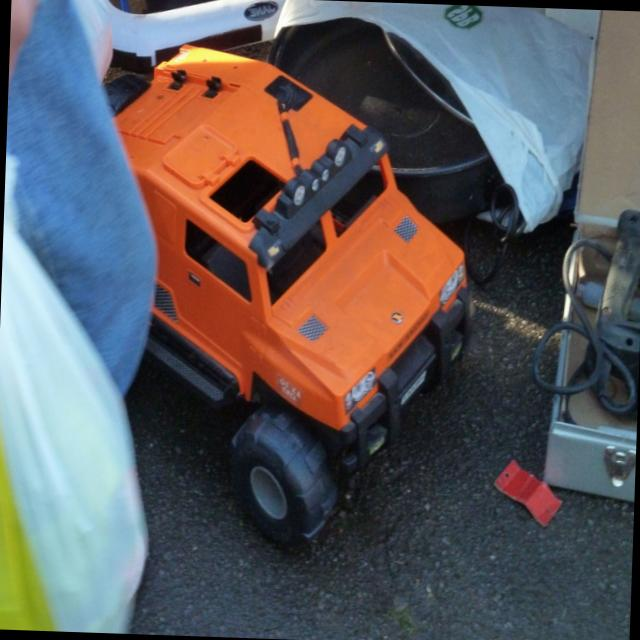Toy: (69, 34, 508, 566)
